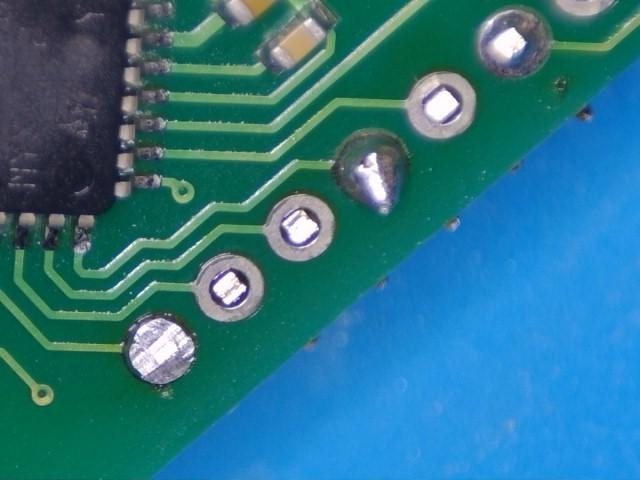pcb_defect: (332, 134, 407, 214), (479, 11, 548, 78)
